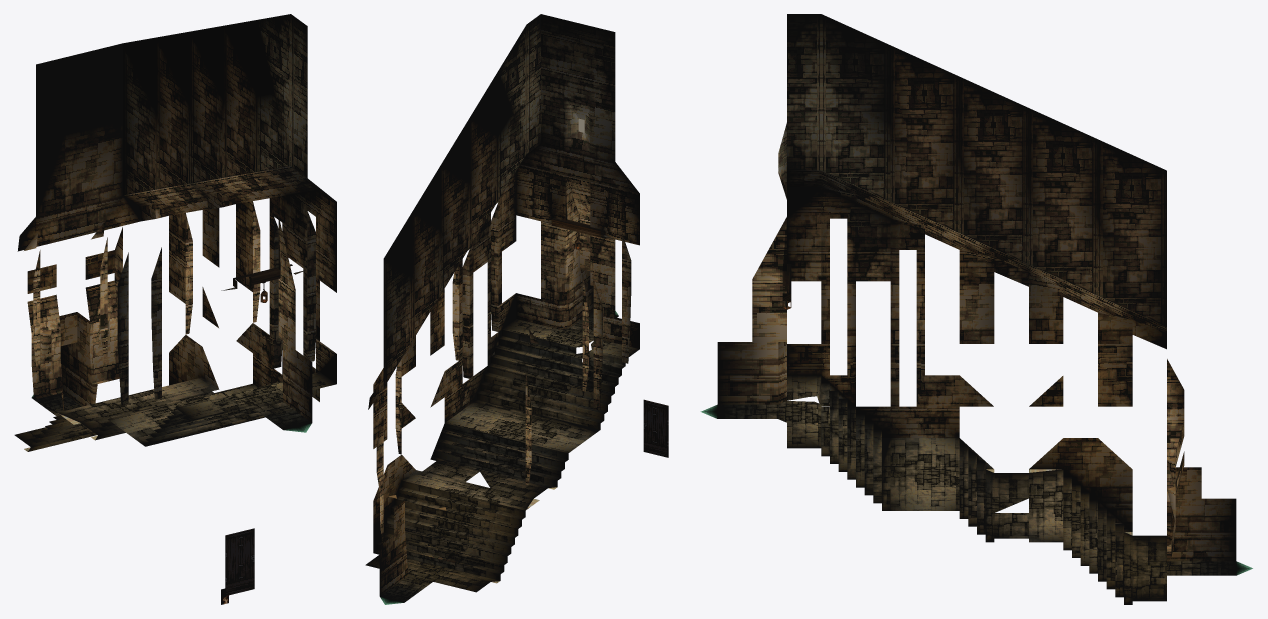
Rendered from MAP117.gltf.
3 renders of one model, left to right at view 1: azimuth 30°, elevation 25°; view 2: azimuth 150°, elevation 25°; view 3: azimuth 270°, elevation 25°, orthographic. The views are drawn at different scales.
Bounding box in the file's own units: 73.6 × 221 × 205.
25 materials, 25 textured.
